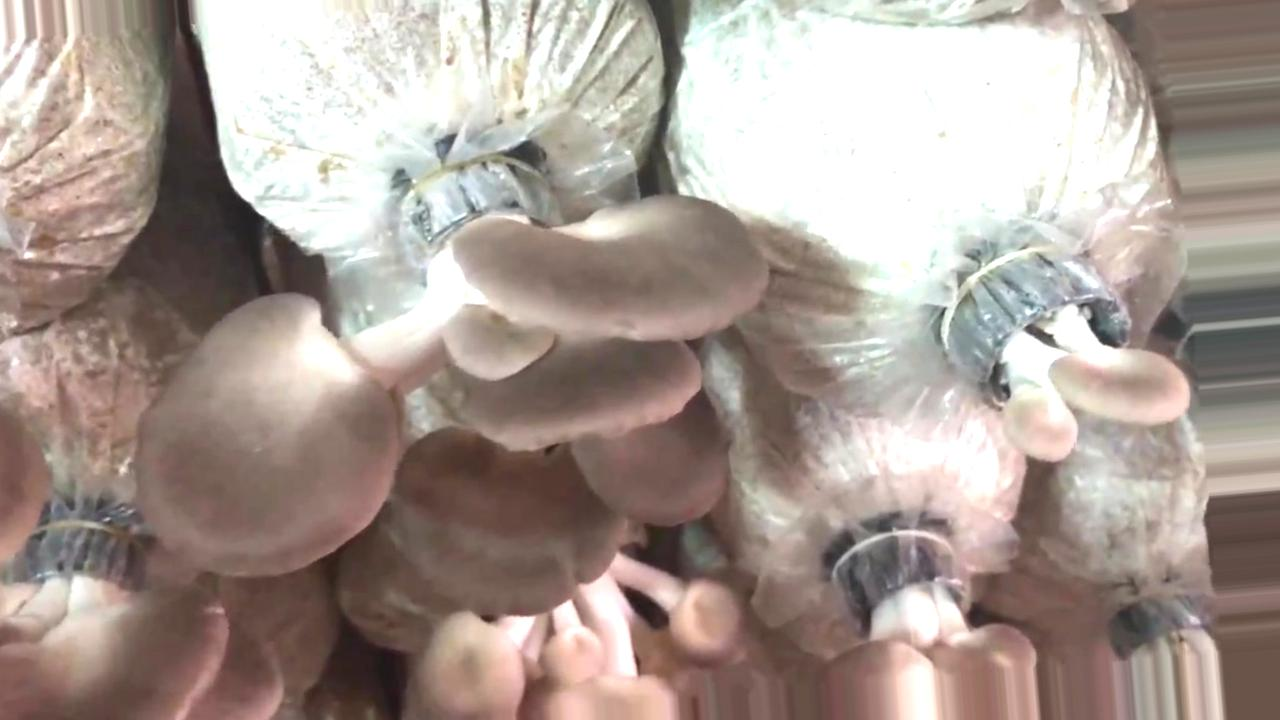nam: (141, 162, 768, 618), (1, 503, 285, 720), (409, 552, 741, 720), (961, 248, 1189, 455), (828, 523, 1041, 720)
